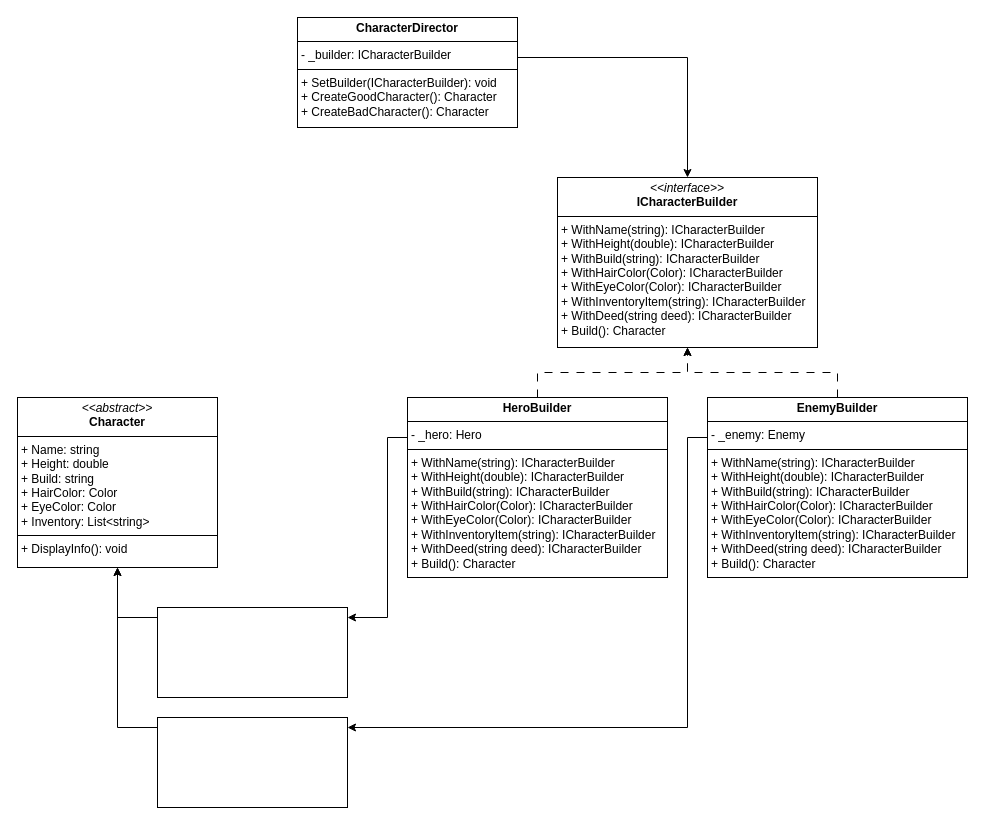
The diagram is 985 pixels wide and 825 high, and some of its shapes have lost their labels. Here are the shapes that lost their labels. From the top down, the box of each, then its label:
(156, 606, 348, 698): Hero + GoodDeeds: List<string> + DisplayInfo(): void + MakeGoodDeed(): void
(156, 716, 348, 808): Enemy + BadDeeds: List<string> + DisplayInfo(): void + MakeBadDeed(): void
